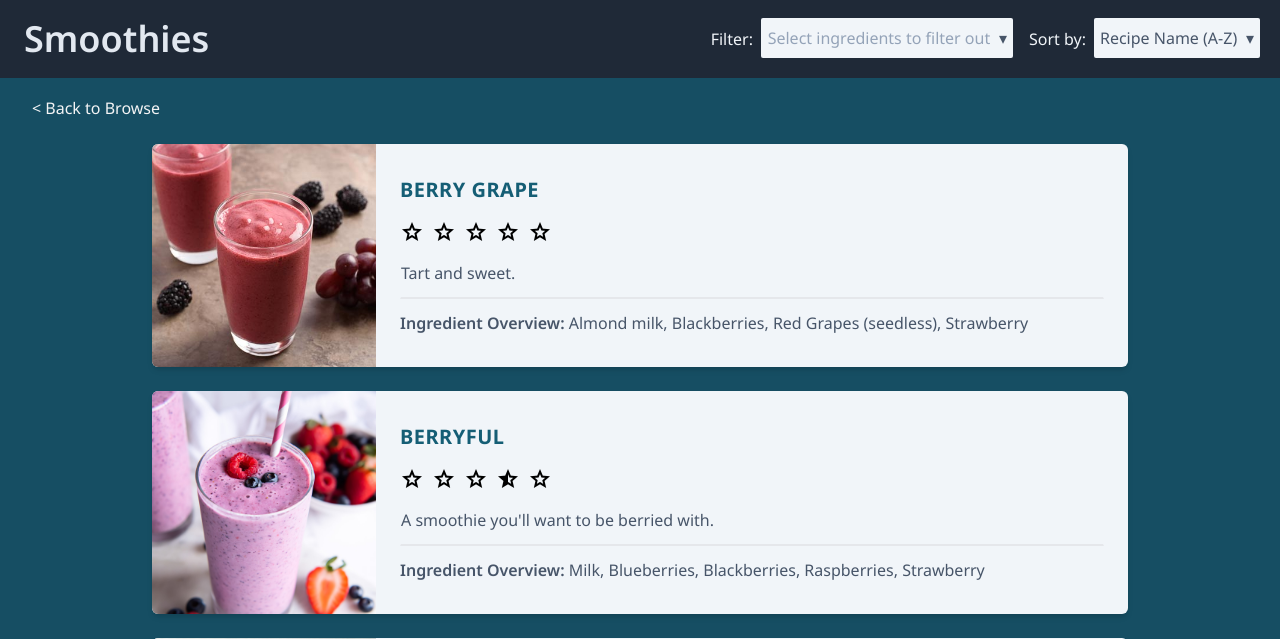
Test case: filter options › filter out one ingredient 1
Click the button with id "filter_button".
click(887, 38)  # box [761,18,1013,58]
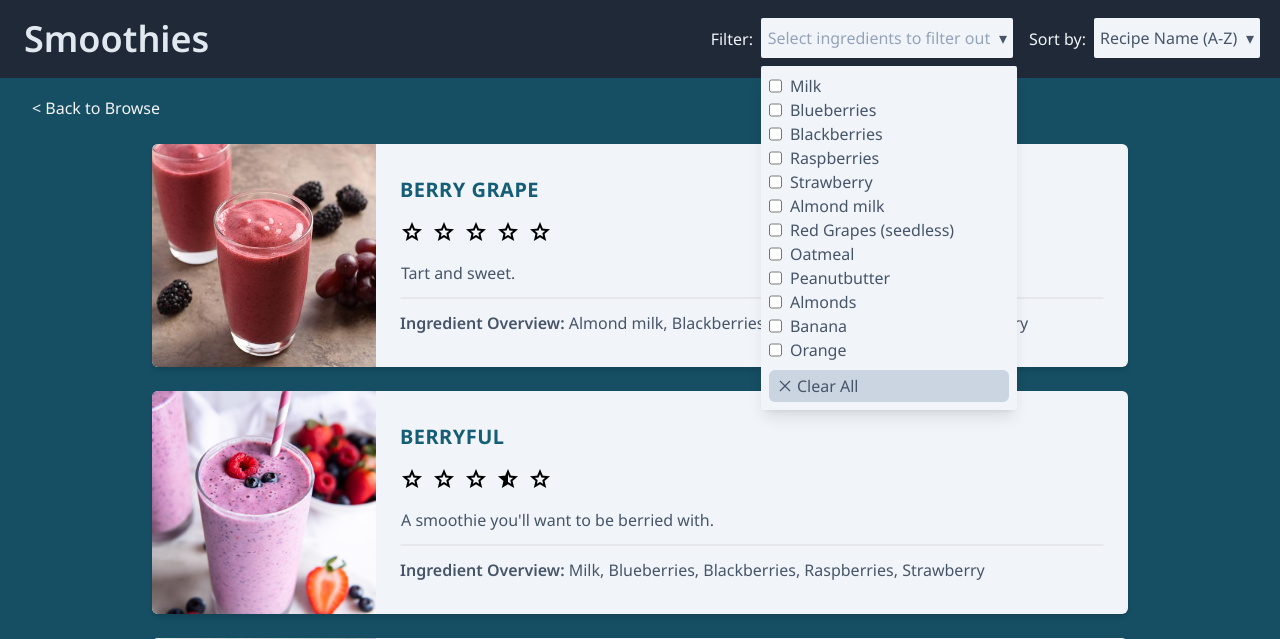
Click the list item "Milk".
click(795, 86)  # box [769,74,821,98]
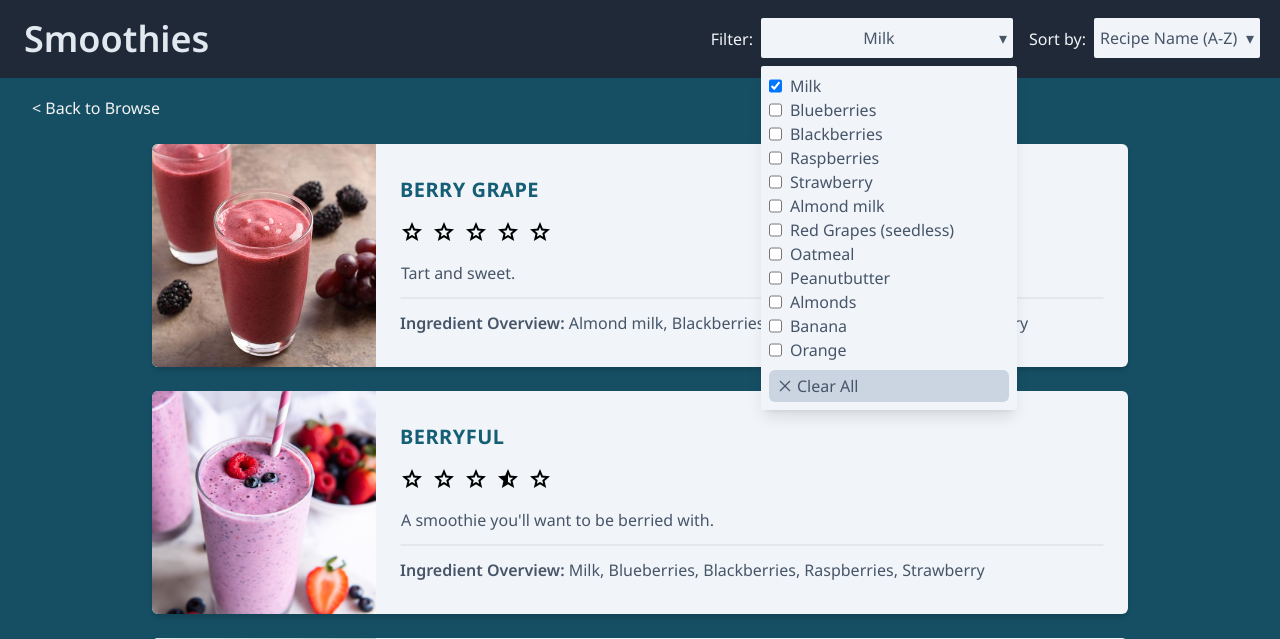
Click the heading "Smoothies".
click(117, 39)  # box [24,12,209,66]
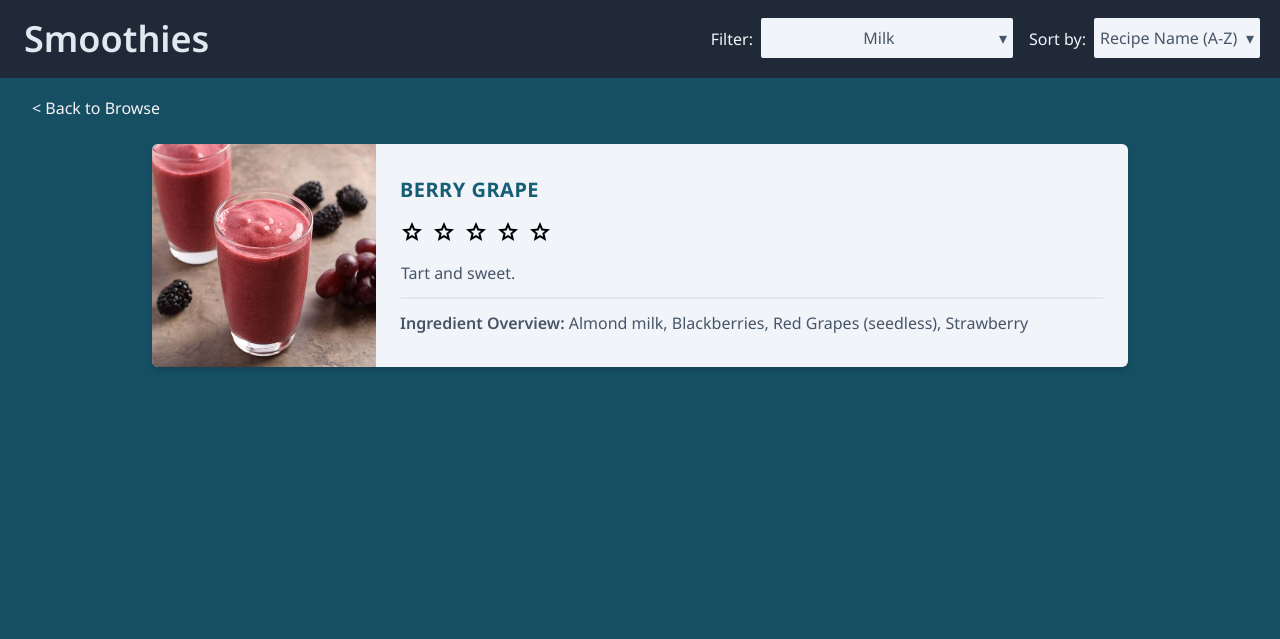
Expected: the link "Berry Grape" is shown, [400,176,539,204]
Now the number of list items is 1, box [152,144,1128,367]
